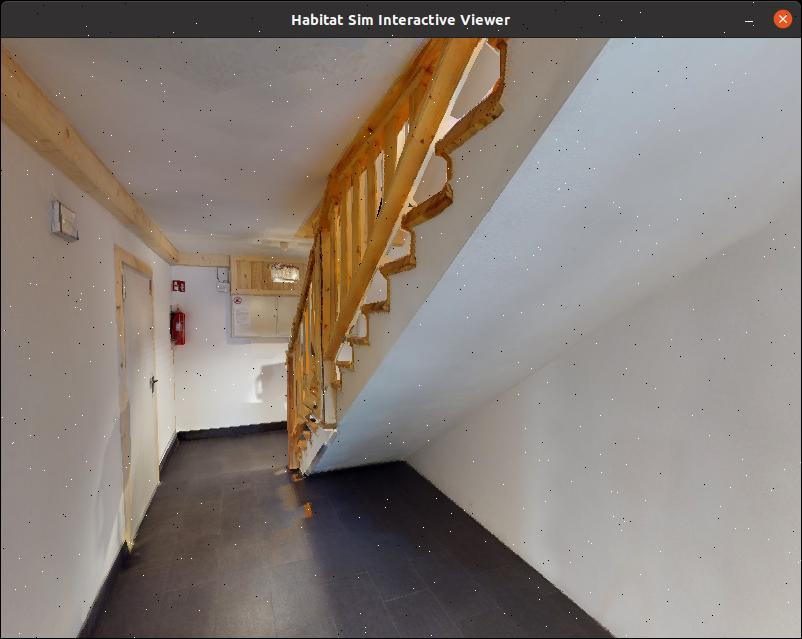stairs: (279, 47, 596, 501)
